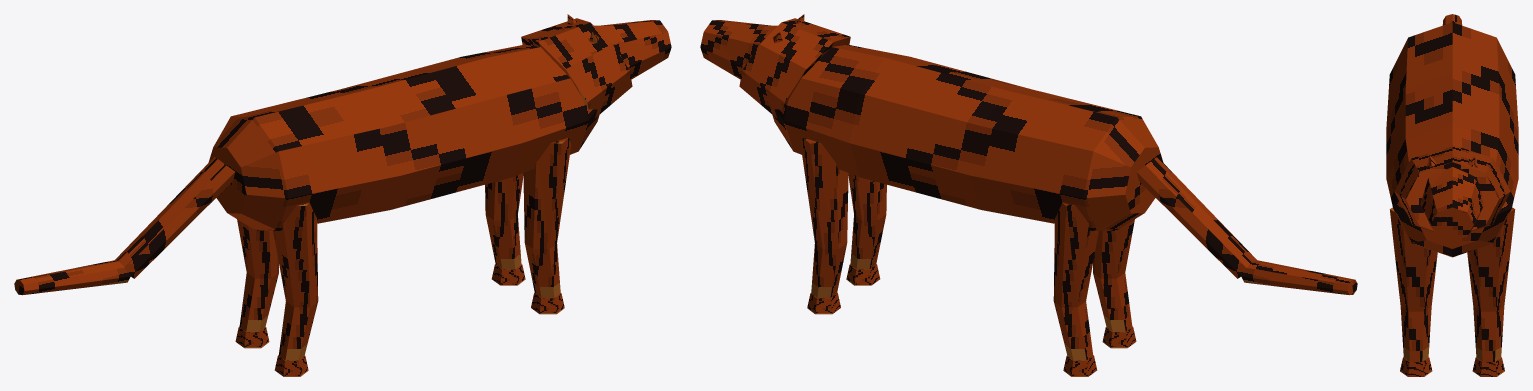
Rendered from tigre.glb.
3 renders of one model, left to right at view 1: azimuth 30°, elevation 25°; view 2: azimuth 150°, elevation 25°; view 3: azimuth 270°, elevation 25°, orthographic. The views are drawn at different scales.
Parts seen in each view (by area): view 1: cuerpo, cola, pata_delantera_der, cuello, pata_trasera_der, pata_trasera_izq, pata_delantera_izq, cabeza, pezuna_delantera_izq, pezuna_delantera_der, pezuna_trasera_izq, pezuna_trasera_der; view 2: cuerpo, cola, pata_delantera_izq, cuello, pata_trasera_izq, pata_trasera_der, pata_delantera_der, cabeza, pezuna_delantera_der, pezuna_delantera_izq, pezuna_trasera_der, pezuna_trasera_izq; view 3: cuerpo, cuello, pata_delantera_izq, pata_delantera_der, cabeza, pezuna_delantera_izq, pezuna_delantera_der, cola, orejas.
Part boxes in pixels (x1=…): cuerpo: x1=208, y1=44, x2=599, y2=230; cola: x1=14, y1=157, x2=235, y2=295; pata_delantera_der: x1=523, y1=137, x2=571, y2=297; cuello: x1=521, y1=18, x2=632, y2=118; pata_trasera_der: x1=273, y1=203, x2=318, y2=360; pata_trasera_izq: x1=237, y1=219, x2=278, y2=331; pata_delantera_izq: x1=485, y1=173, x2=523, y2=269; cabeza: x1=594, y1=20, x2=671, y2=79; pezuna_delantera_izq: x1=491, y1=264, x2=525, y2=285; pezuna_delantera_der: x1=531, y1=292, x2=564, y2=314; pezuna_trasera_izq: x1=235, y1=326, x2=269, y2=348; pezuna_trasera_der: x1=274, y1=355, x2=308, y2=376; cuerpo: x1=772, y1=44, x2=1163, y2=230; cola: x1=1136, y1=157, x2=1357, y2=295; pata_delantera_izq: x1=800, y1=137, x2=848, y2=297; cuello: x1=739, y1=18, x2=850, y2=118; pata_trasera_izq: x1=1053, y1=203, x2=1098, y2=360; pata_trasera_der: x1=1093, y1=219, x2=1134, y2=331; pata_delantera_der: x1=848, y1=173, x2=886, y2=269; cabeza: x1=700, y1=20, x2=777, y2=79; pezuna_delantera_der: x1=846, y1=264, x2=880, y2=285; pezuna_delantera_izq: x1=807, y1=292, x2=840, y2=314; pezuna_trasera_der: x1=1102, y1=326, x2=1136, y2=348; pezuna_trasera_izq: x1=1063, y1=355, x2=1097, y2=376; cuerpo: x1=1386, y1=22, x2=1518, y2=257; cuello: x1=1394, y1=145, x2=1510, y2=231; pata_delantera_izq: x1=1467, y1=207, x2=1515, y2=361; pata_delantera_der: x1=1389, y1=207, x2=1437, y2=361; cabeza: x1=1420, y1=167, x2=1484, y2=241; pezuna_delantera_izq: x1=1472, y1=357, x2=1504, y2=376; pezuna_delantera_der: x1=1400, y1=357, x2=1432, y2=376; cola: x1=1442, y1=14, x2=1462, y2=25; orejas: x1=1427, y1=155, x2=1477, y2=167.
Bounding box in the file's own units: 2.6 × 1 × 0.5.
Materials: 1 (1 with a texture image).
